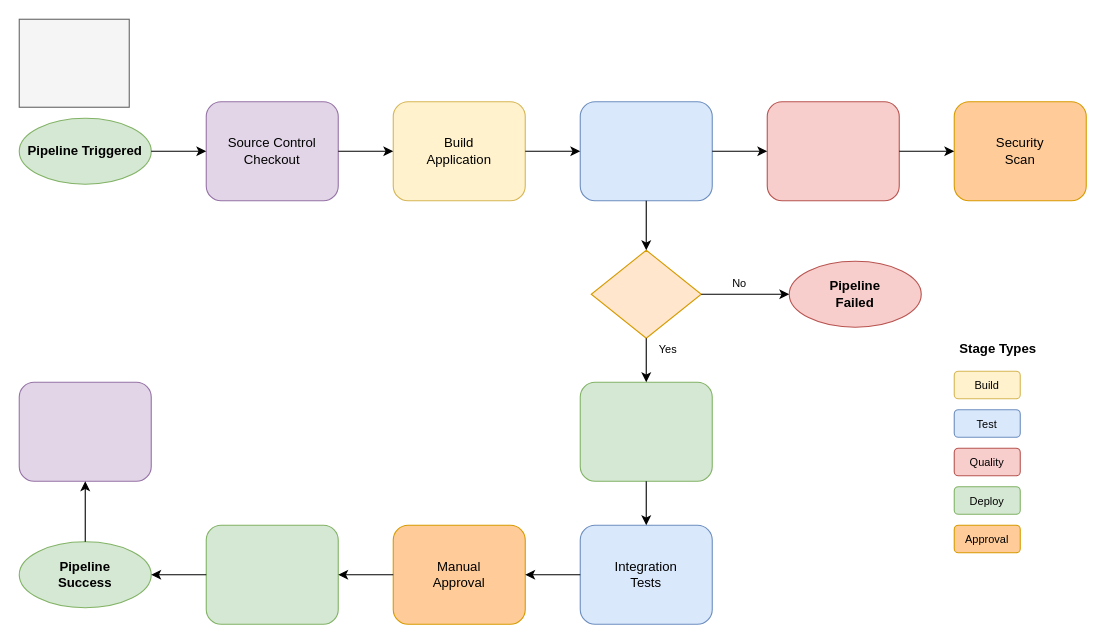
Some shapes in this 1106 by 644 pixel diagram are drawn without their labels. The centre of each missing label's shape, as x and y in pixels:
"All Tests Pass?" goes at (x=645, y=293).
"Code Quality Analysis" goes at (x=832, y=151).
"Deploy to Production" goes at (x=271, y=574).
"Deploy to Staging" goes at (x=645, y=431).
"Run Unit Tests" goes at (x=645, y=151).
"Send Notifications" goes at (x=84, y=431).
"Triggers: • Git Push • Pull Request • Scheduled • Manual" goes at (x=73, y=62).
